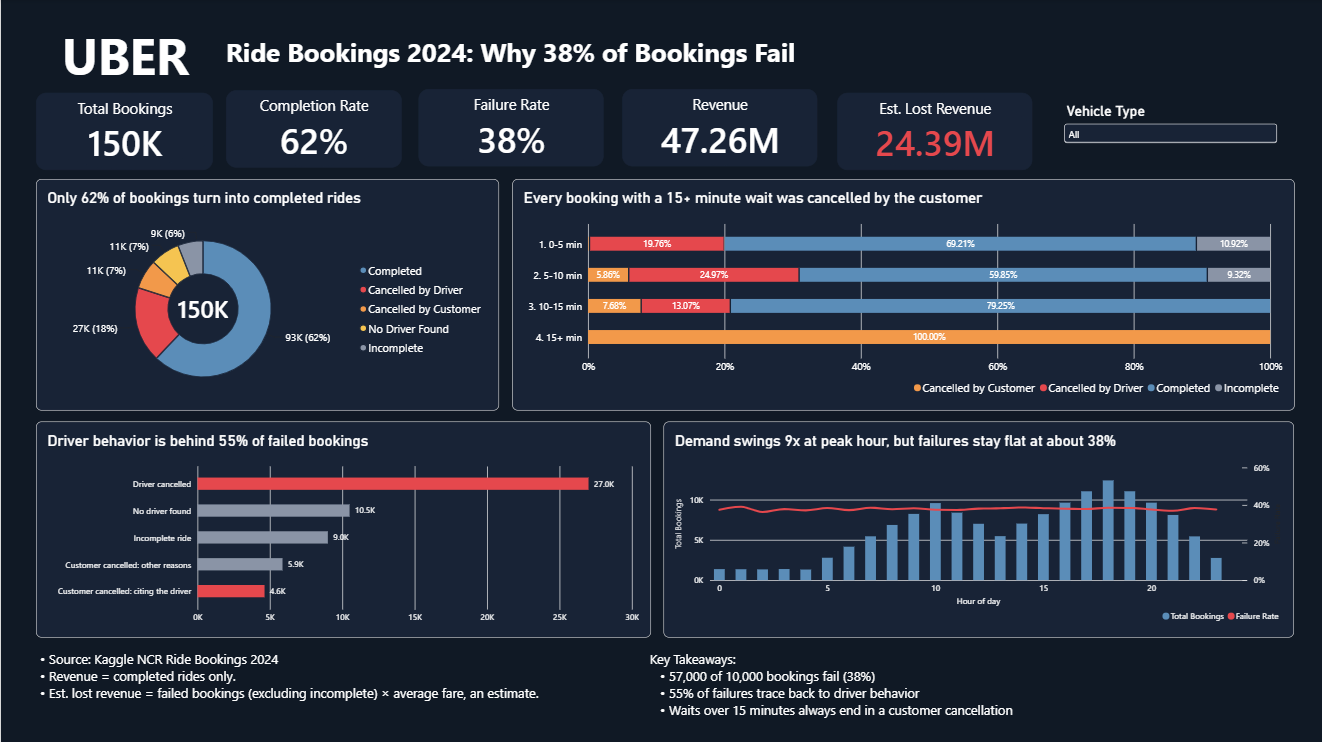

The page's visual inventory and layout, read from the dashboard file:
{"tool":"powerbi","page":{"name":"Page 1","canvas":[1920,1080],"ordinal":0},"visuals":[{"type":"cardVisual","fields":{"Data":["uber_rides_staging.Total Bookings"]},"box":[50,135,256,112],"z":0},{"type":"textbox","box":[42.5,32.5,276,102],"z":1000},{"type":"textbox","box":[325,50,970,90],"z":2000},{"type":"cardVisual","fields":{"Data":["uber_rides_staging.Completion Rate"]},"box":[325,132.5,254,112],"z":3000},{"type":"cardVisual","fields":{"Data":["uber_rides_staging.Failure Rate"]},"box":[605,130,268,112],"z":4000},{"type":"cardVisual","fields":{"Data":["uber_rides_staging.Revenue"]},"box":[900,130,282,112],"z":5000},{"type":"cardVisual","fields":{"Data":["uber_rides_staging.Est. Lost Revenue"]},"box":[1210,135,282,112],"z":6000},{"type":"donutChart","title":"Only 62% of bookings turn into completed rides","fields":{"Category":["uber_rides_staging.Booking Status"],"Y":["uber_rides_staging.Total Bookings"]},"box":[50,260,670,335],"z":7000},{"type":"lineClusteredColumnComboChart","title":"Demand swings 9x at peak hour, but failures stay flat at about 38%","fields":{"Category":["uber_rides_staging.Ride_Hour"],"Y":["uber_rides_staging.Total Bookings"],"Y2":["uber_rides_staging.Failure Rate"]},"box":[960,612.5,912.5,312.5],"z":8000},{"type":"barChart","title":"Driver behavior is behind 55% of failed bookings","fields":{"Category":["uber_rides_staging.Failure_Cause"],"Y":["uber_rides_staging.Total Bookings"]},"box":[50,612.5,890,312.5],"z":9000},{"type":"hundredPercentStackedBarChart","title":"Every booking with a 15+ minute wait was cancelled by the customer","fields":{"Category":["uber_rides_staging.Wait_Time_Bucket"],"Series":["uber_rides_staging.Booking Status"],"Y":["uber_rides_staging.Total Bookings"]},"box":[740,260,1132.5,335],"z":10000},{"type":"slicer","fields":{"Values":["uber_rides_staging.Vehicle Type"]},"box":[1535,150,318,76],"z":11000},{"type":"textbox","box":[42,942,806,86],"z":12000},{"type":"textbox","box":[940,942,912,106],"z":13000}]}

Visuals, with their boxes in screenshot pixels (x1, y1, x2, y2), scaled from the page's 1920x1080 canvas onto the 1322x742 screenshot:
cardVisual - uber_rides_staging.Total Bookings: l=34, t=93, r=211, b=170
textbox: l=29, t=22, r=219, b=92
textbox: l=224, t=34, r=892, b=96
cardVisual - uber_rides_staging.Completion Rate: l=224, t=91, r=399, b=168
cardVisual - uber_rides_staging.Failure Rate: l=417, t=89, r=601, b=166
cardVisual - uber_rides_staging.Revenue: l=620, t=89, r=814, b=166
cardVisual - uber_rides_staging.Est. Lost Revenue: l=833, t=93, r=1027, b=170
"Only 62% of bookings turn into completed rides" donutChart: l=34, t=179, r=496, b=409
"Demand swings 9x at peak hour, but failures stay flat at about 38%" lineClusteredColumnComboChart: l=661, t=421, r=1289, b=636
"Driver behavior is behind 55% of failed bookings" barChart: l=34, t=421, r=647, b=636
"Every booking with a 15+ minute wait was cancelled by the customer" hundredPercentStackedBarChart: l=510, t=179, r=1289, b=409
slicer - uber_rides_staging.Vehicle Type: l=1057, t=103, r=1276, b=155
textbox: l=29, t=647, r=584, b=706
textbox: l=647, t=647, r=1275, b=720
